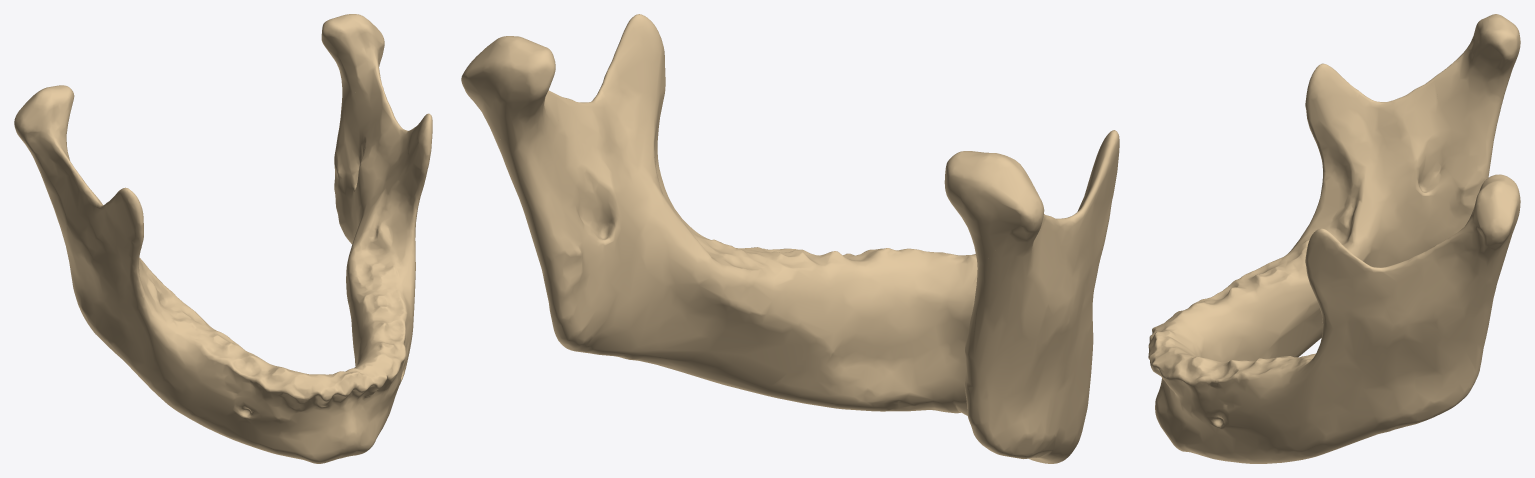
File: explorar-mandible.glb
3 renders of one model, left to right at view 1: azimuth 30°, elevation 25°; view 2: azimuth 150°, elevation 25°; view 3: azimuth 270°, elevation 25°, orthographic. The views are drawn at different scales.
Parts seen in each view (by area): view 1: mandible__cuerpo, mandible__rama, mandible__proceso_condilar, mandible__proceso_coronoides, mandible__angulo; view 2: mandible__cuerpo, mandible__rama, mandible__proceso_condilar, mandible__angulo, mandible__proceso_coronoides; view 3: mandible__rama, mandible__cuerpo, mandible__proceso_condilar, mandible__angulo, mandible__proceso_coronoides.
Part boxes in pixels (x1,y1,x2,y2): mandible__cuerpo: (104, 209, 415, 463); mandible__rama: (34, 82, 423, 325); mandible__proceso_condilar: (14, 14, 384, 175); mandible__proceso_coronoides: (105, 113, 432, 260); mandible__angulo: (66, 185, 357, 358); mandible__cuerpo: (629, 210, 1093, 463); mandible__rama: (490, 69, 1104, 399); mandible__proceso_condilar: (461, 36, 1044, 282); mandible__angulo: (544, 259, 1066, 459); mandible__proceso_coronoides: (607, 14, 1119, 260); mandible__rama: (1305, 76, 1506, 384); mandible__cuerpo: (1148, 208, 1400, 463); mandible__proceso_condilar: (1431, 14, 1520, 271); mandible__angulo: (1380, 202, 1483, 433); mandible__proceso_coronoides: (1305, 63, 1364, 311).
Bounding box in the file's own units: 0.1005 × 0.0799 × 0.0794.
